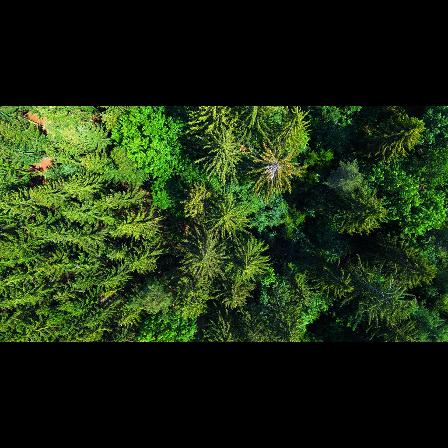Sick: (253, 149, 299, 189)
